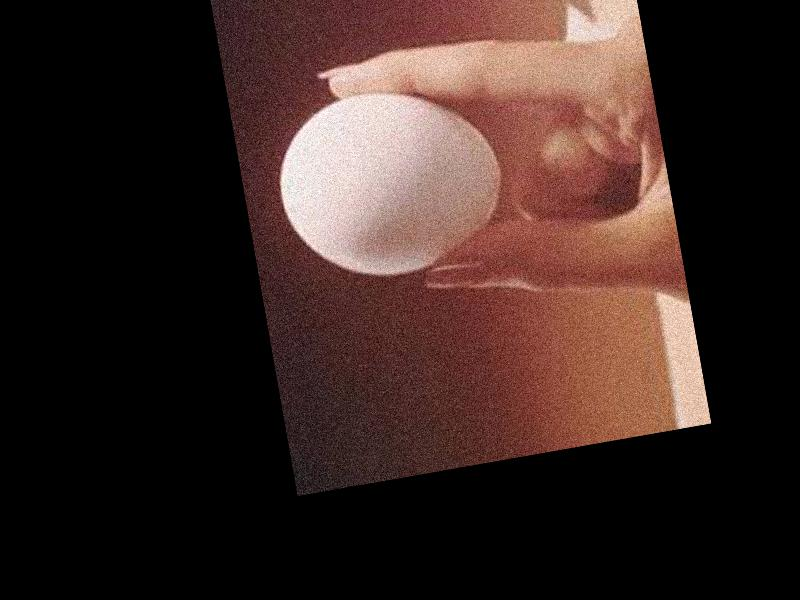Eggs: (265, 70, 515, 293)
